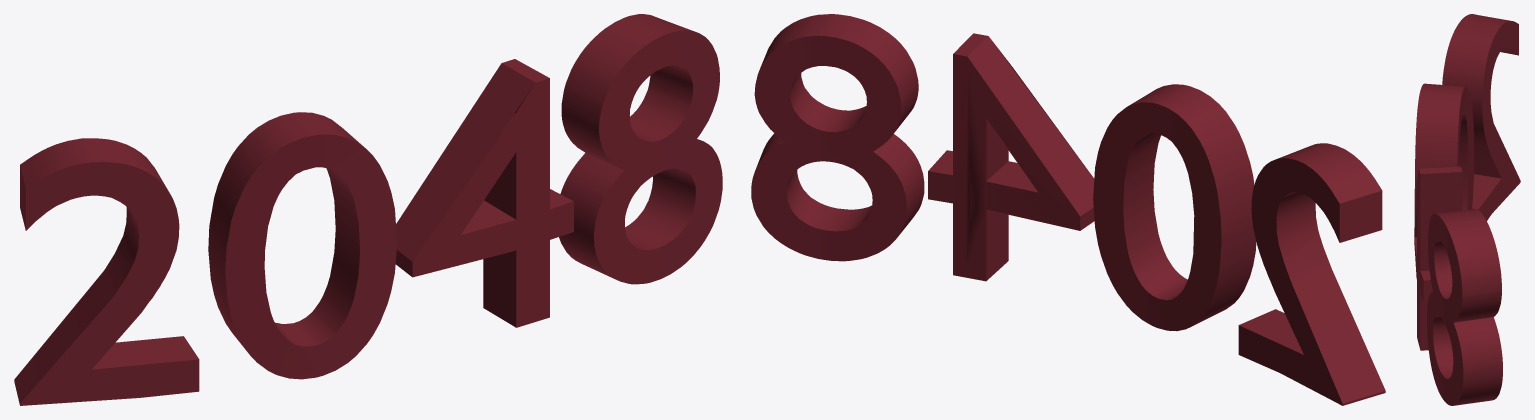
File: item_2048.glb
3 renders of one model, left to right at view 1: azimuth 30°, elevation 25°; view 2: azimuth 150°, elevation 25°; view 3: azimuth 270°, elevation 25°, orthographic. The views are drawn at different scales.
Parts seen in each view (by area): view 1: Text; view 2: Text; view 3: Text.
Boxes of the visible parts, left/top/right/bottom form: Text: left=14, top=14, right=722, bottom=405; Text: left=751, top=14, right=1385, bottom=405; Text: left=1414, top=14, right=1520, bottom=405.
Bounding box in the file's own units: 2.08 × 0.7003 × 0.3775.
